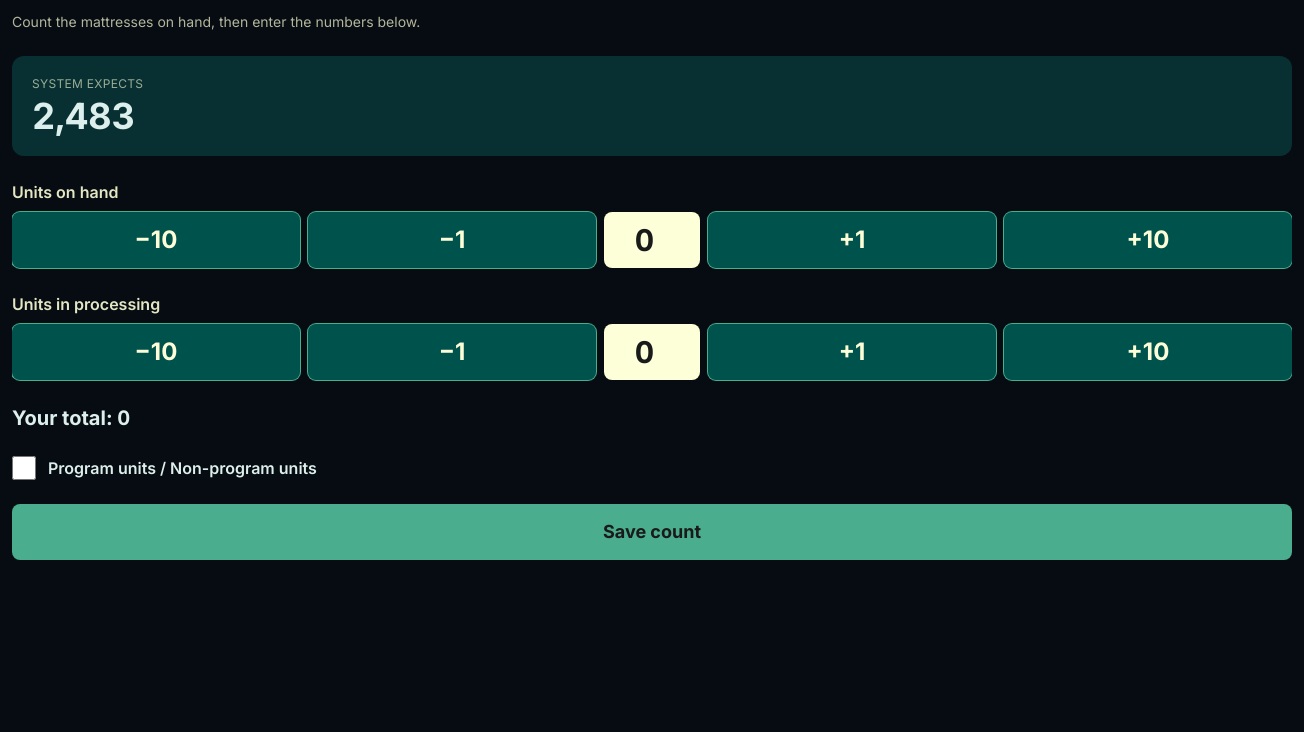
Test: 401 — the session ended, not the network › says the sign-in expired rather than inviting a retry
This screenshot has width=1304, height=732.
Click the button "Save count": (652, 532) [12,504,1292,560]
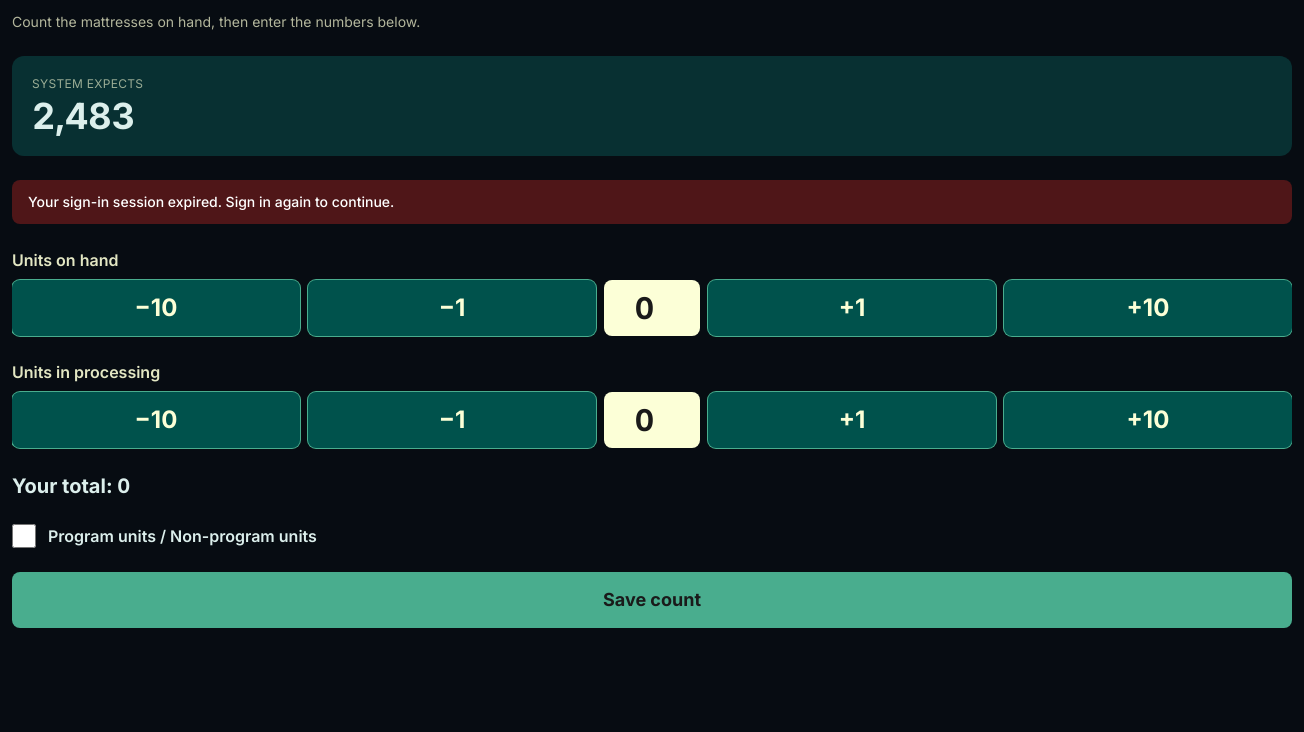
Now the text "Your sign-in session expired. Sign in again to continue." is shown, box [12,180,1292,224]
